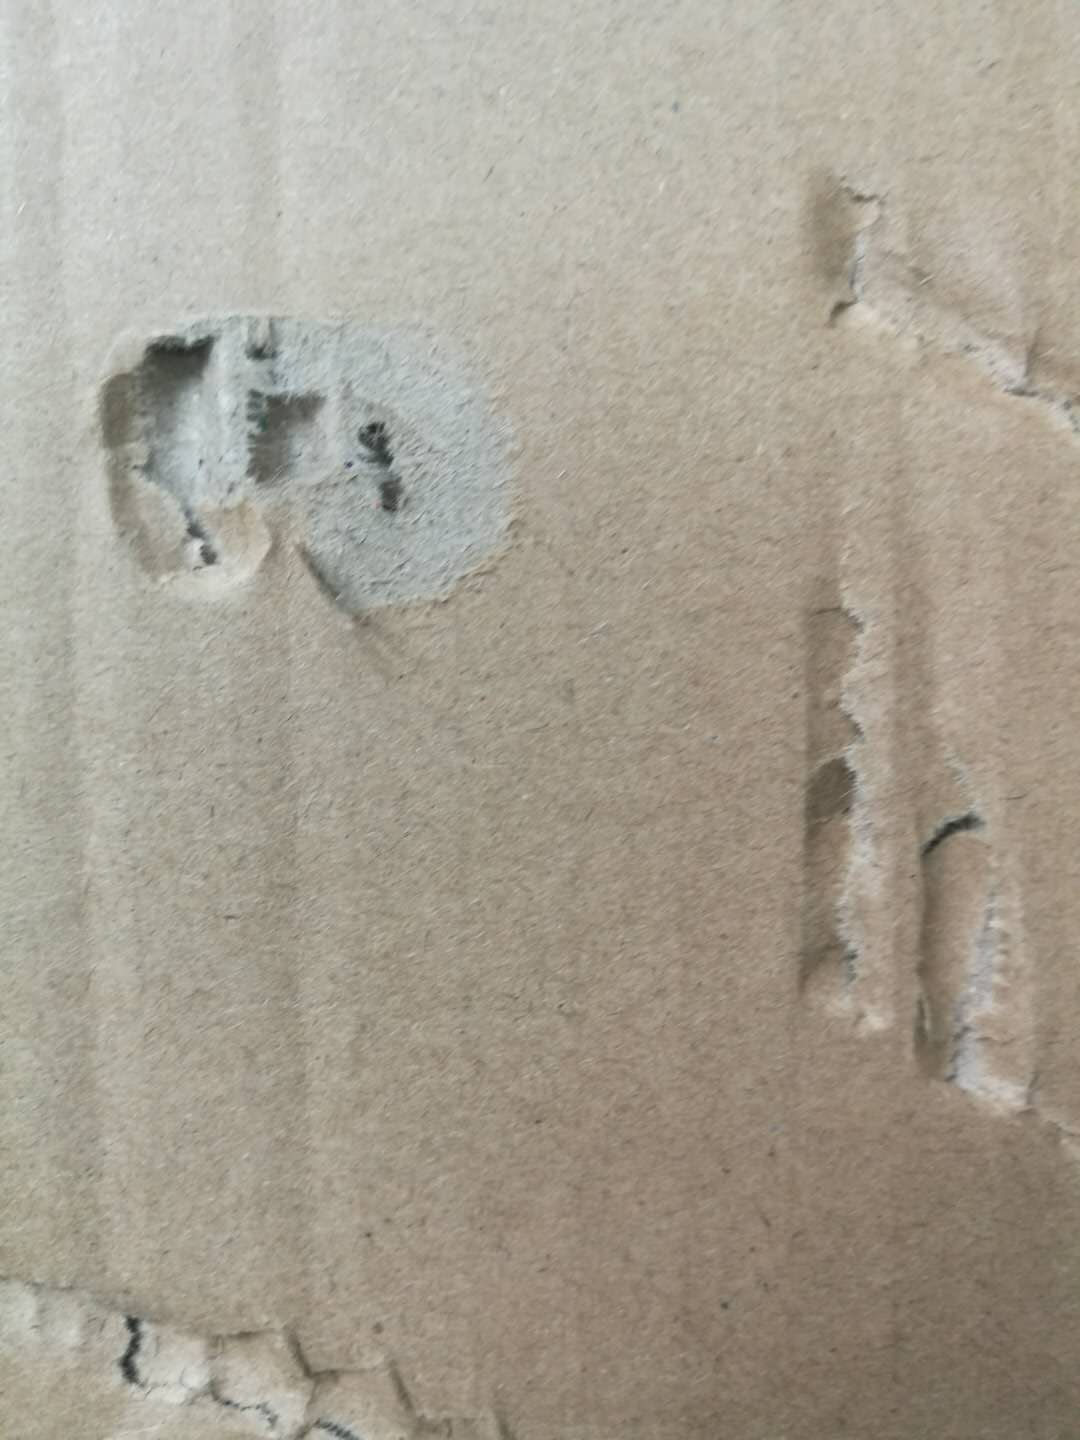defect: (71, 270, 577, 712), (763, 542, 1080, 1186), (2, 1208, 535, 1440), (779, 141, 1080, 468)
